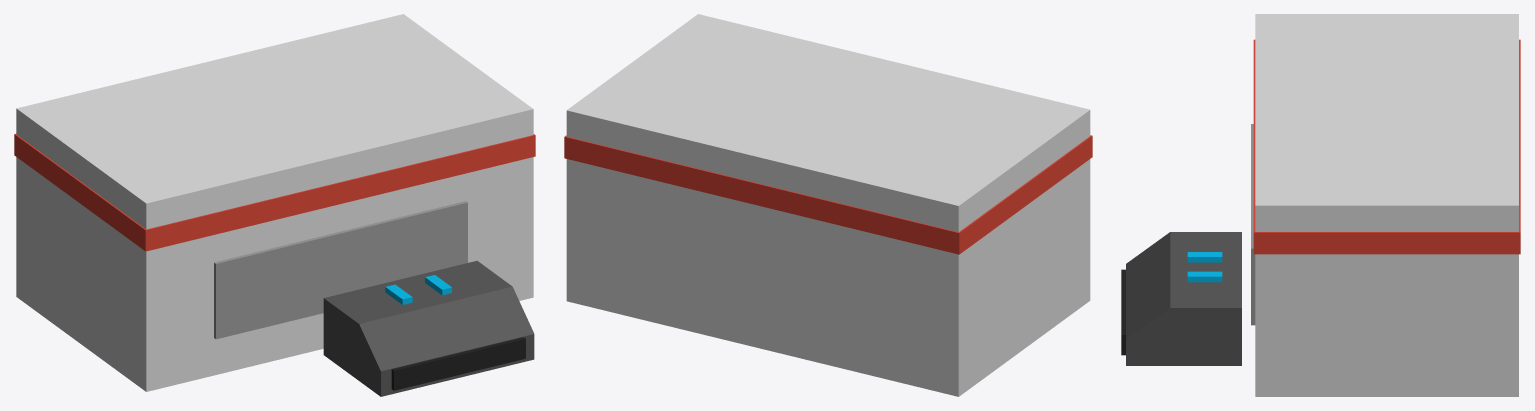
The model's file is ce_ammo2_plasmah_std_c.obj.
The picture shows the model from 3 angles, left to right: view 1: azimuth 30°, elevation 25°; view 2: azimuth 150°, elevation 25°; view 3: azimuth 270°, elevation 25°; orthographic projection.
Parts seen in each view (by area): view 1: ce_ammo2_plasmah_std_c_0, ce_ammo2_plasmah_std_c_2, ce_ammo2_plasmah_std_c_3, ce_ammo2_plasmah_std_c_1, ce_ammo2_plasmah_std_c_4; view 2: ce_ammo2_plasmah_std_c_0, ce_ammo2_plasmah_std_c_1; view 3: ce_ammo2_plasmah_std_c_0, ce_ammo2_plasmah_std_c_3, ce_ammo2_plasmah_std_c_1, ce_ammo2_plasmah_std_c_2, ce_ammo2_plasmah_std_c_4, ce_ammo2_plasmah_std_c_6, ce_ammo2_plasmah_std_c_5.
Part boxes in pixels (x1,y1,x2,y2): ce_ammo2_plasmah_std_c_0: [16, 14, 533, 391]; ce_ammo2_plasmah_std_c_2: [214, 201, 467, 339]; ce_ammo2_plasmah_std_c_3: [323, 261, 534, 396]; ce_ammo2_plasmah_std_c_1: [14, 134, 535, 251]; ce_ammo2_plasmah_std_c_4: [391, 337, 525, 390]; ce_ammo2_plasmah_std_c_0: [566, 14, 1090, 396]; ce_ammo2_plasmah_std_c_1: [564, 135, 1092, 254]; ce_ammo2_plasmah_std_c_0: [1255, 14, 1518, 396]; ce_ammo2_plasmah_std_c_3: [1126, 232, 1241, 365]; ce_ammo2_plasmah_std_c_1: [1253, 39, 1520, 254]; ce_ammo2_plasmah_std_c_2: [1251, 124, 1255, 325]; ce_ammo2_plasmah_std_c_4: [1121, 269, 1125, 355]; ce_ammo2_plasmah_std_c_6: [1187, 271, 1222, 282]; ce_ammo2_plasmah_std_c_5: [1187, 252, 1222, 262].
Size of the model in its own units: 0.866 by 0.4 by 0.757.
